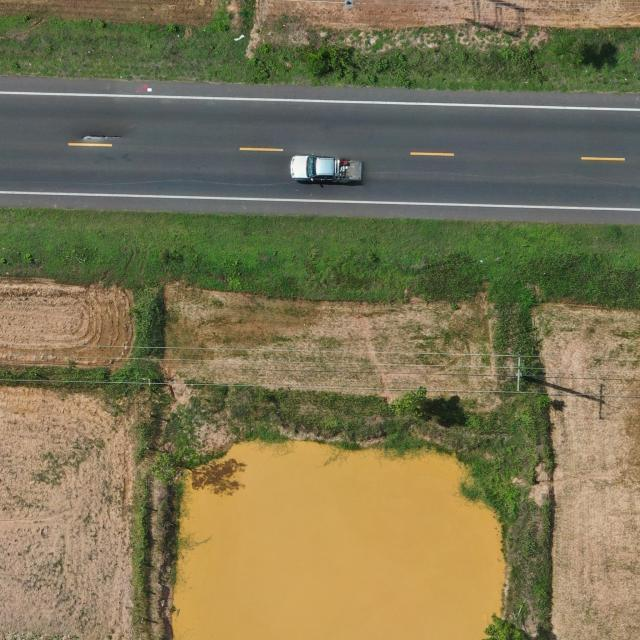tree: (146, 445, 228, 486), (388, 386, 429, 419), (482, 611, 528, 640)
